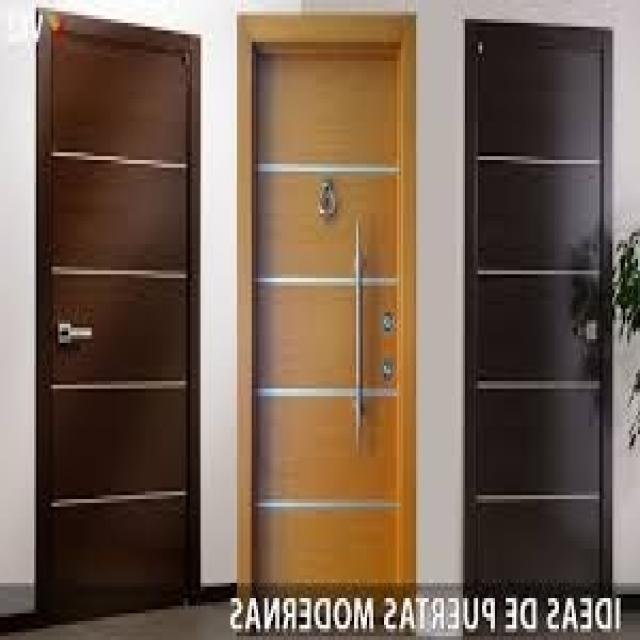door: (238, 13, 417, 634)
